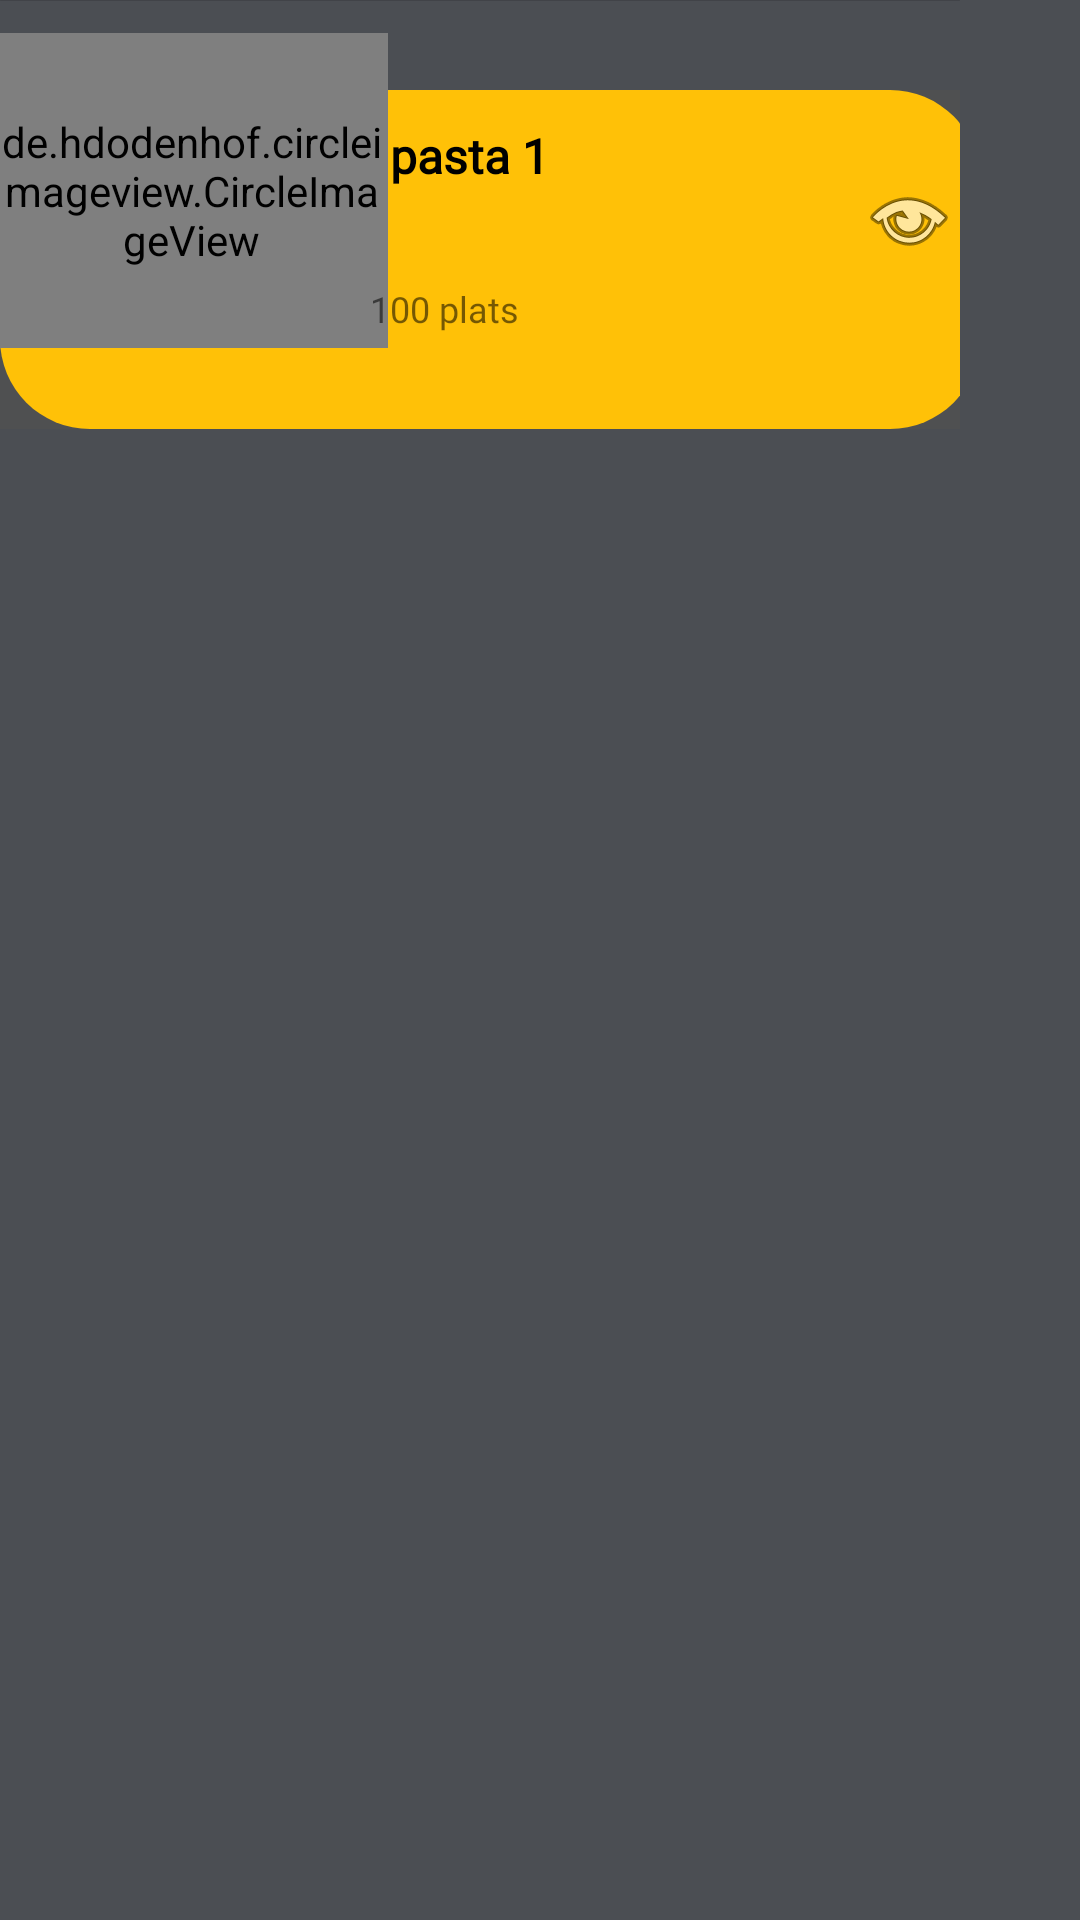

Icon click points for this 1080*1920 phone screenshot, format (x=x, y=y):
view: (x=909, y=221)
